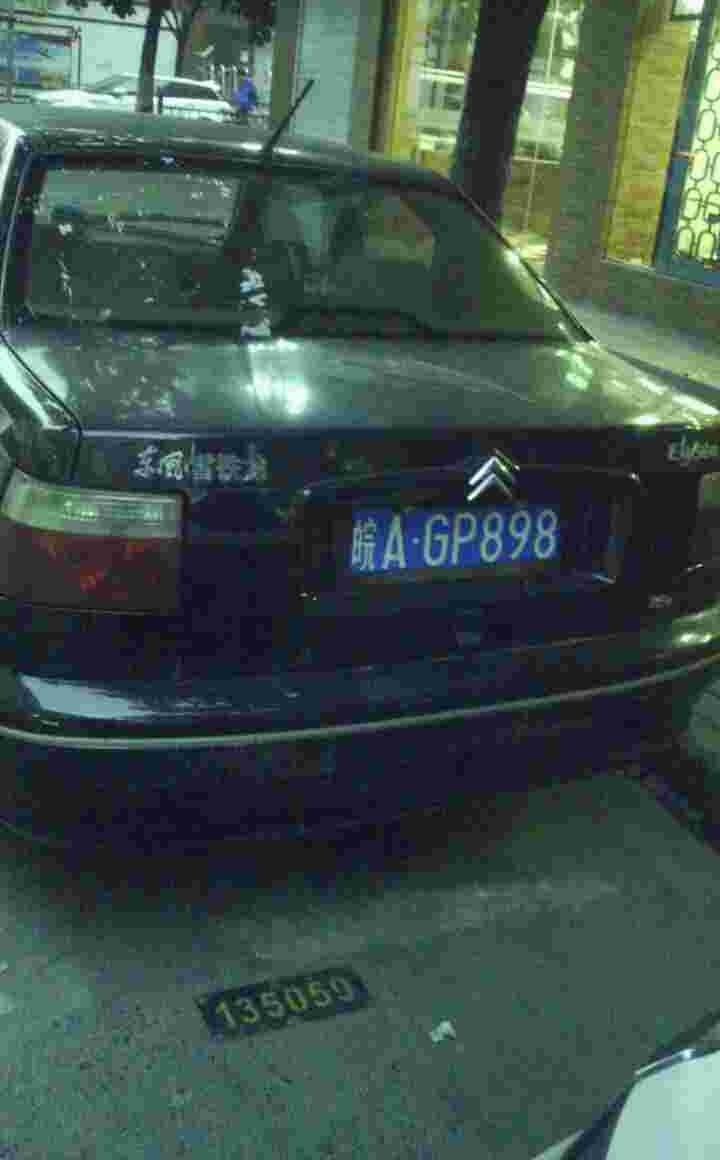license_plate: (333, 508, 565, 576)
